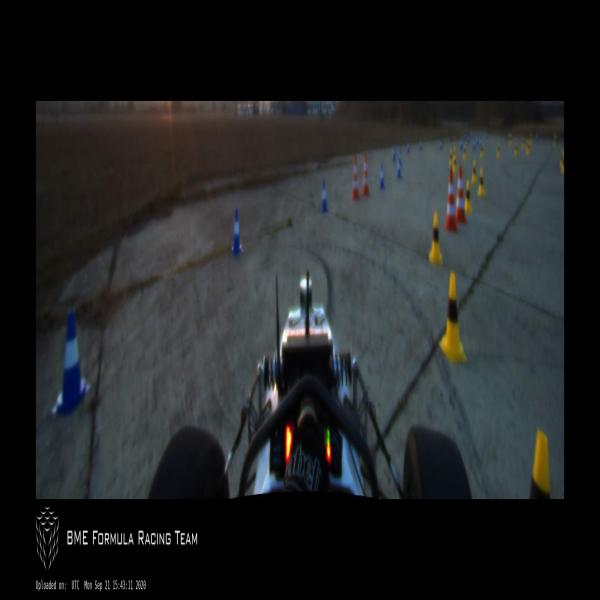blue_cone: (52, 313, 92, 414), (230, 209, 244, 255), (321, 183, 328, 212), (379, 165, 385, 188), (397, 160, 401, 178), (392, 146, 395, 161), (472, 140, 475, 151), (399, 150, 401, 166), (419, 139, 422, 149), (556, 132, 559, 142), (407, 142, 409, 152), (440, 140, 442, 150), (460, 139, 462, 149), (536, 131, 538, 141), (486, 131, 488, 140), (468, 136, 470, 144), (476, 137, 478, 145), (471, 130, 473, 138), (464, 133, 466, 140), (480, 135, 482, 142)
large_orange_cone: (444, 169, 458, 232), (456, 166, 466, 223), (352, 154, 360, 200), (362, 153, 369, 196)
yellow_cone: (438, 272, 467, 366), (529, 427, 552, 499), (429, 212, 443, 263), (464, 181, 472, 212), (477, 168, 484, 195), (472, 161, 478, 182), (452, 155, 457, 174), (560, 148, 564, 164), (514, 142, 518, 156), (463, 144, 466, 160), (526, 142, 530, 154), (561, 157, 564, 173), (497, 142, 500, 157), (509, 133, 512, 146), (450, 148, 452, 166), (553, 135, 556, 146), (481, 144, 483, 157), (522, 137, 524, 149), (530, 135, 532, 145)
